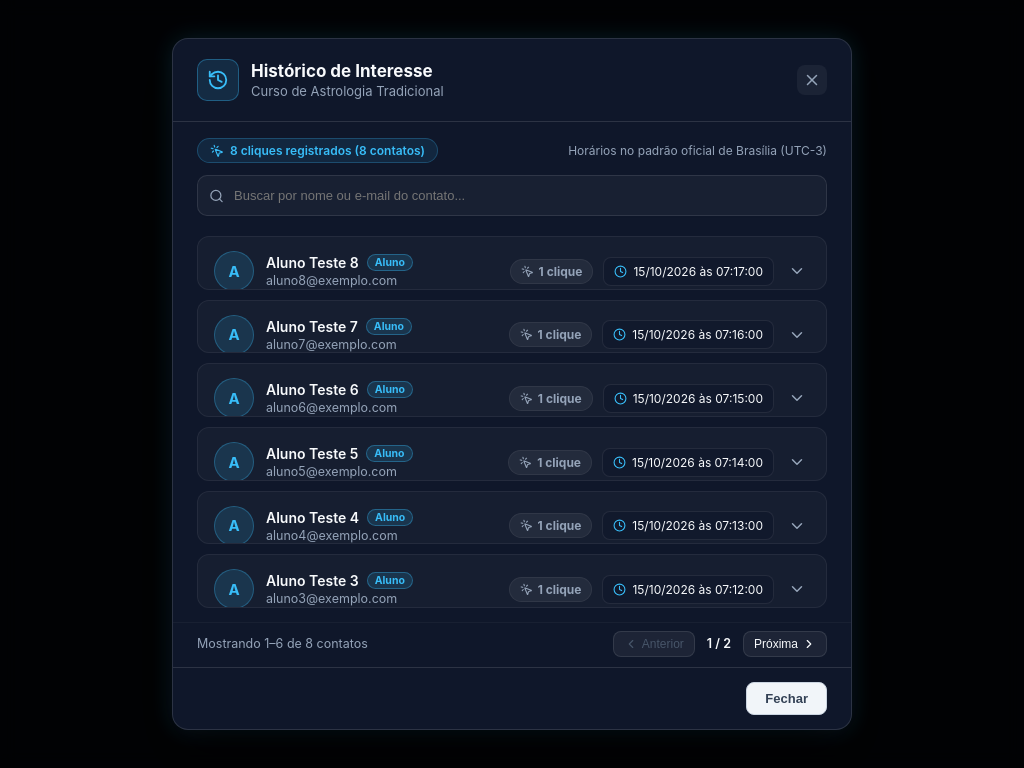
Test case: CourseSalesHistoryModal Component › paginates contacts when total exceeds items per page
This screenshot has width=1024, height=768.
Expected: the element with test id "sales-history-pagination" is shown, left=173, top=622, right=851, bottom=667
Expected: the text "Mostrando 1–6 de 8 contatos" is shown, left=197, top=636, right=368, bottom=651
// Clica em Próxima página
Click the button with test id "pagination-next-btn" at (785, 644), box left=743, top=631, right=827, bottom=657
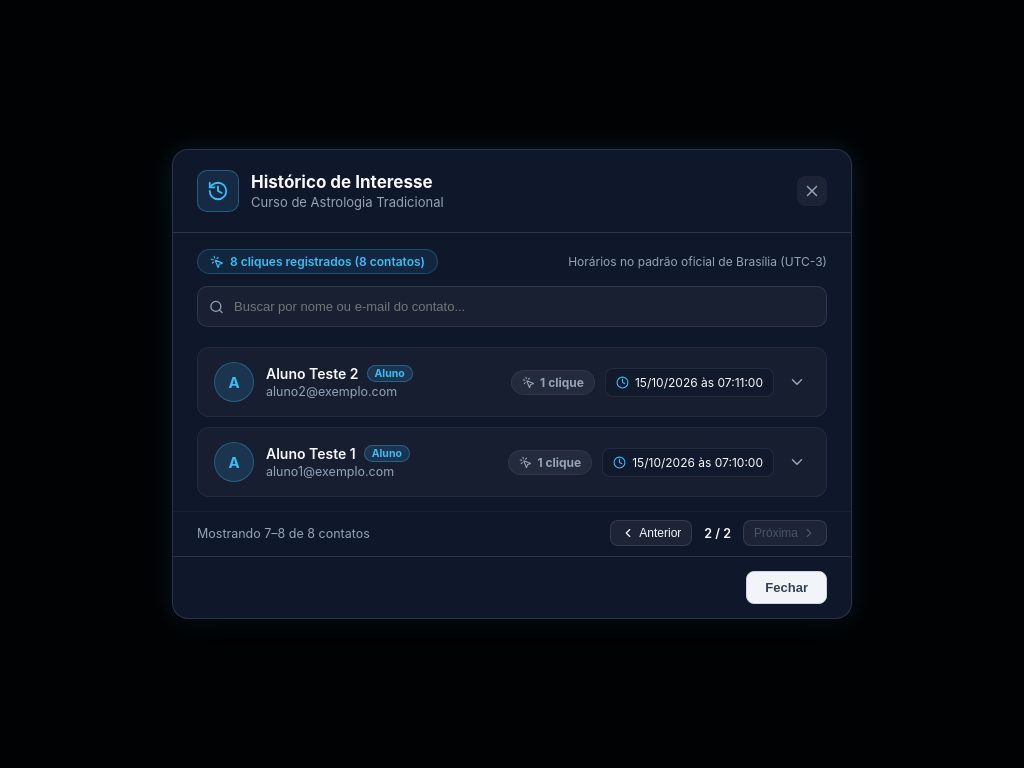
Result: the text "Mostrando 7–8 de 8 contatos" is shown at left=197, top=526, right=370, bottom=540
Result: the text with test id "pagination-current-page" reads "2 / 2" at left=704, top=526, right=731, bottom=540
Result: the button with test id "pagination-next-btn" is disabled at left=743, top=520, right=827, bottom=546
// Clica em Anterior para voltar
Click the button with test id "pagination-prev-btn" at (651, 533), box left=610, top=520, right=692, bottom=546
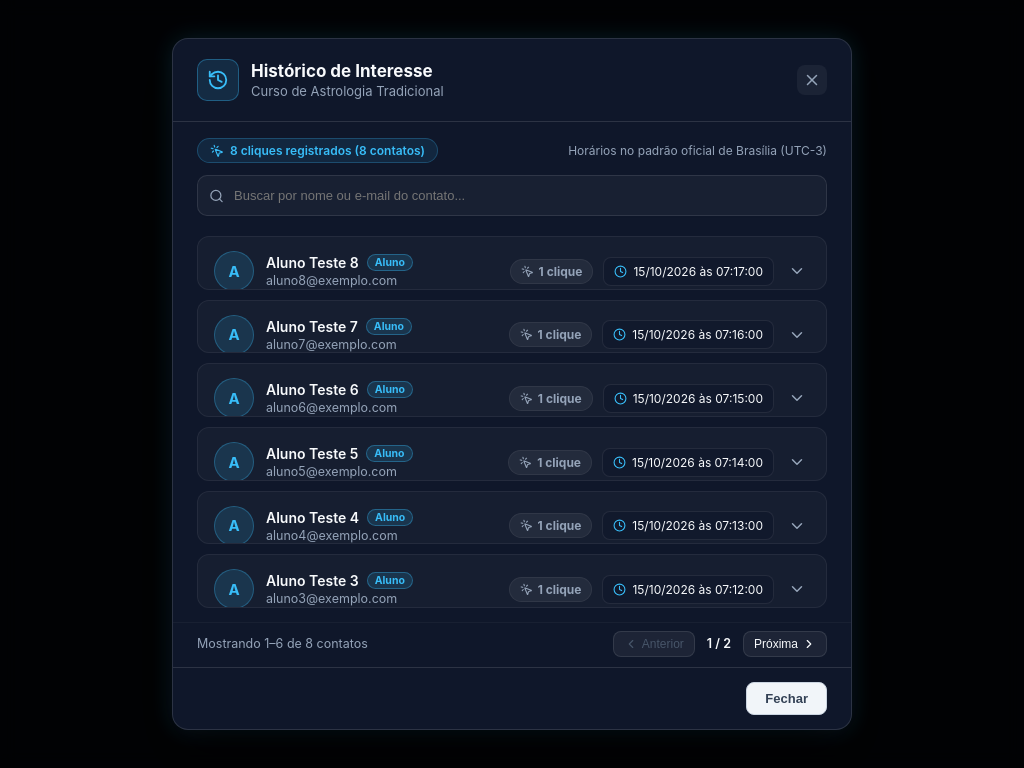
Result: the text with test id "pagination-current-page" reads "1 / 2" at left=707, top=636, right=731, bottom=651
